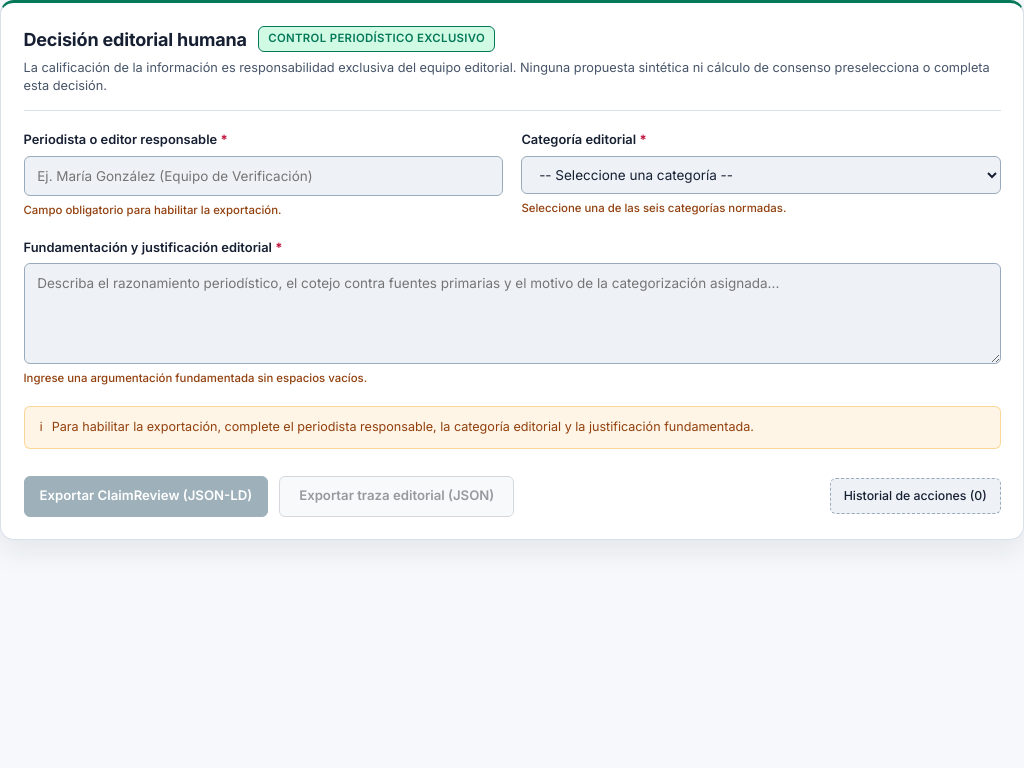
EditorialDecision Component Unit Tests › State machine: selection, change, and withdrawal events › generates three distinct distinguishable events (selected, changed, withdrawn)
The width and height of the screenshot is (1024, 768).
# Fill author & justification
Type "Editor Principal" into the field with test id "editorial-author-input".
click(263, 176); type("Editor Principal")  # box [24,156,503,196]
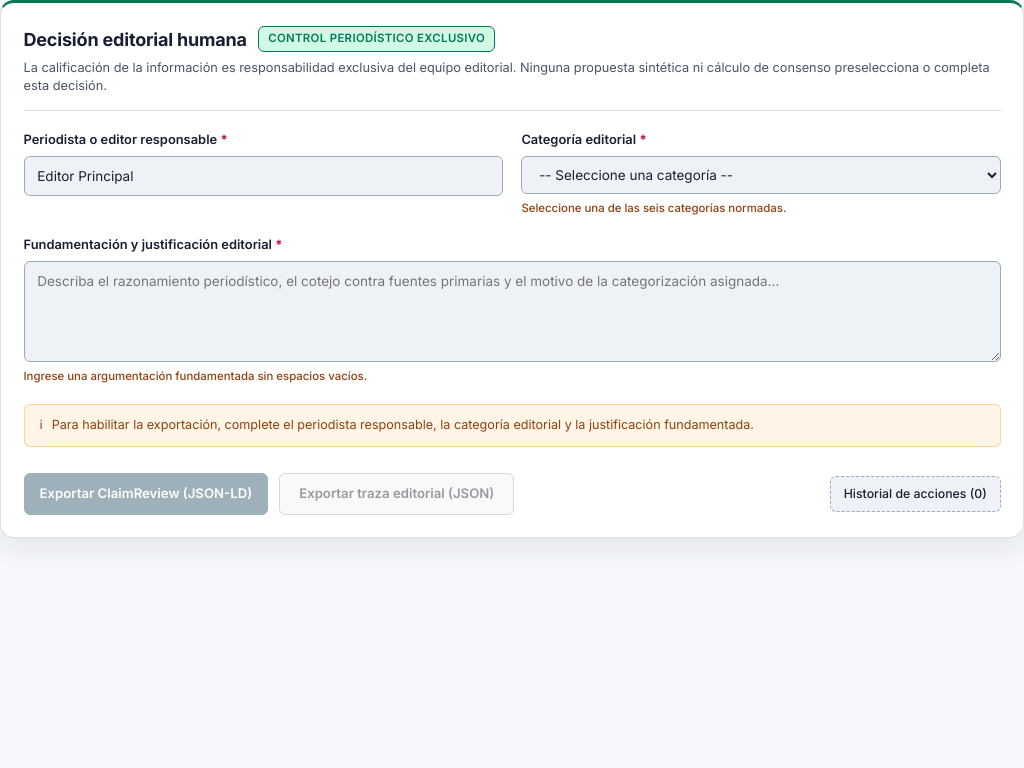
Replace the text in the text box with test id "editorial-justification-input" with "Justificación en curso." at (512, 311), box [24,261,1000,362]
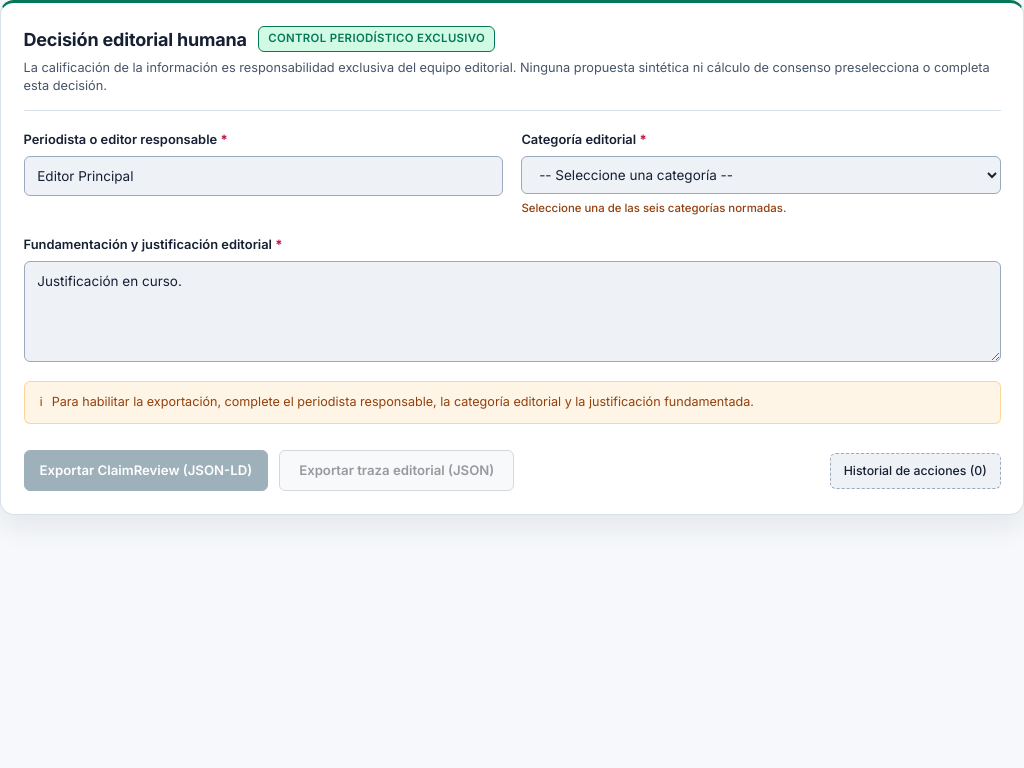
Select "Impreciso" in the dropdown with test id "editorial-category-select" at (761, 175), box [521,156,1000,194]
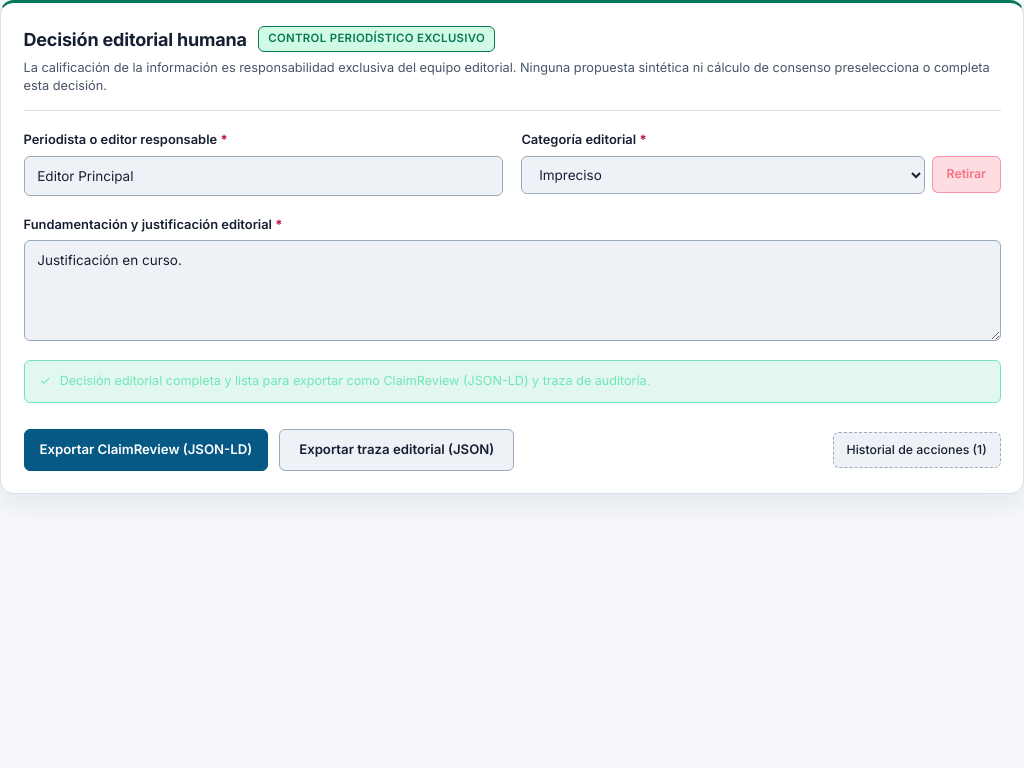
Result: the button with test id "btn-withdraw-decision" is shown at [932,156,1000,193]
Select "Falso" in the dropdown with test id "editorial-category-select" at (723, 175), box [521,156,925,194]
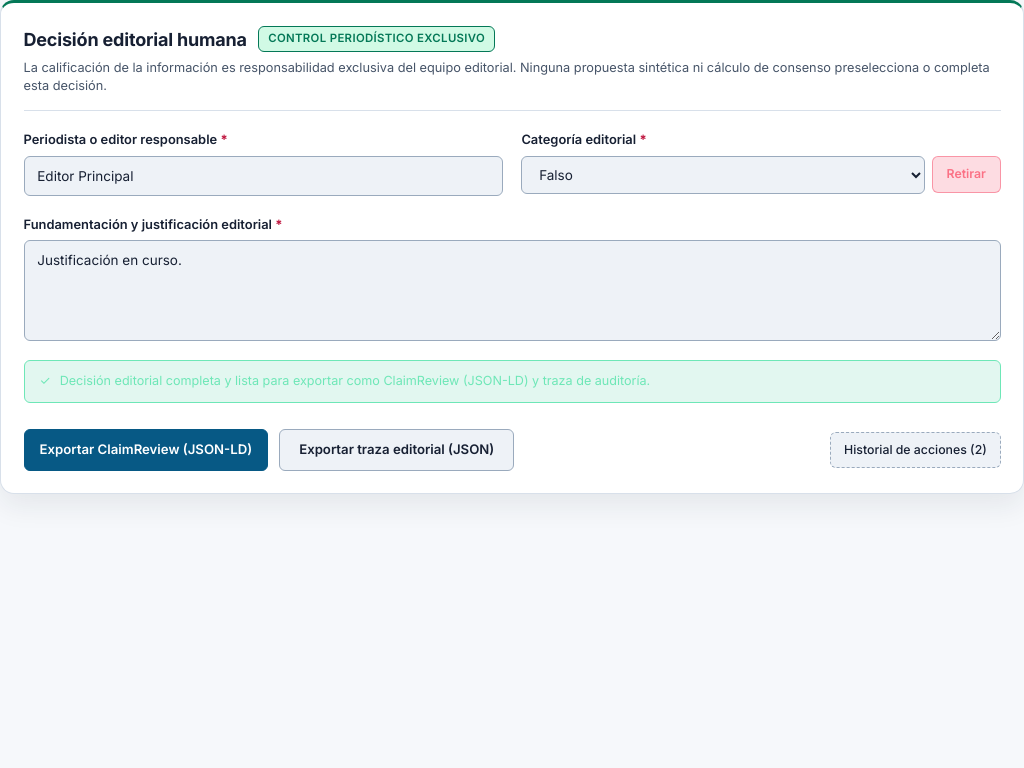
# Withdraw decision
Click the button with test id "btn-withdraw-decision".
click(966, 175)  # box [932,156,1000,193]
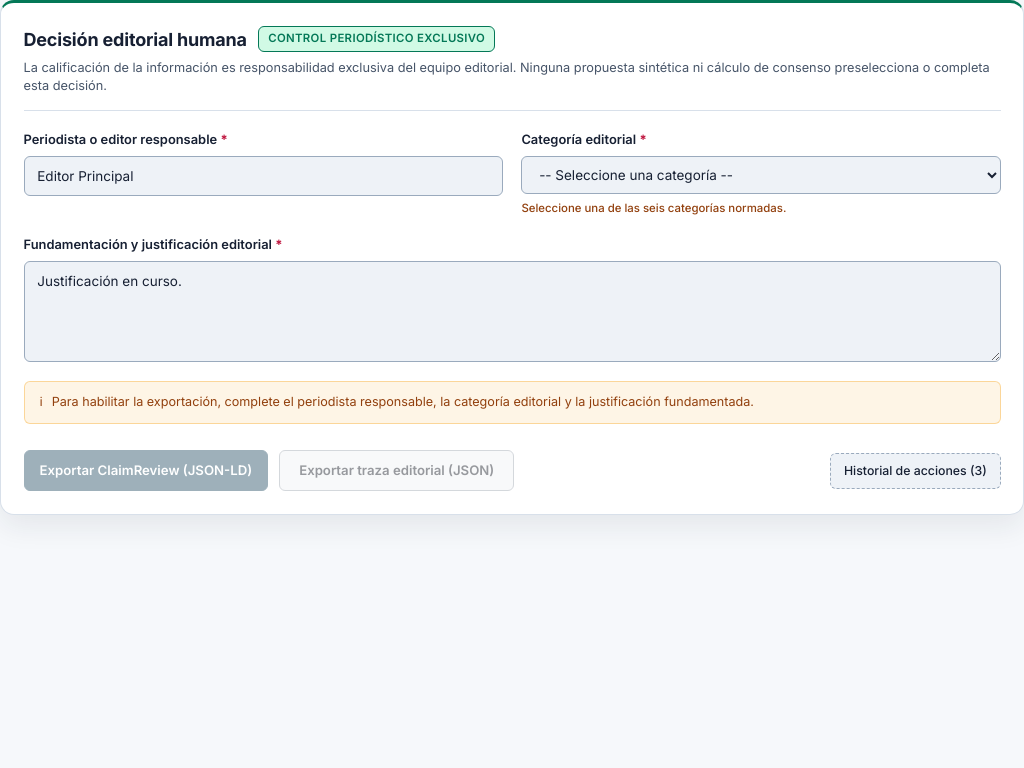
# Open trace history viewer
Click the button with test id "btn-toggle-trace-history".
click(915, 471)  # box [830,453,1000,488]
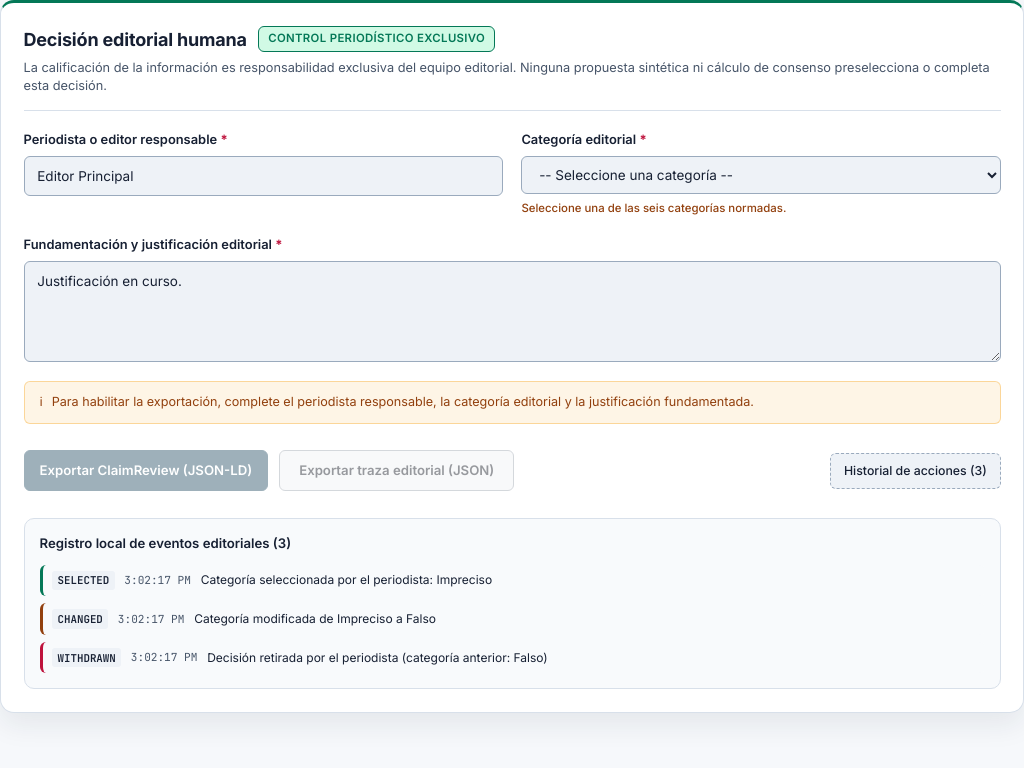
Result: the element with test id "editorial-trace-viewer" is shown at [24,518,1000,689]
Result: the number of list items with class "trace-event-entry" is 3 at [40,565,984,596]; [40,604,984,635]; [40,642,984,673]
Result: the list item with class "trace-event-entry" shows "selected" at [58,573,109,587]
